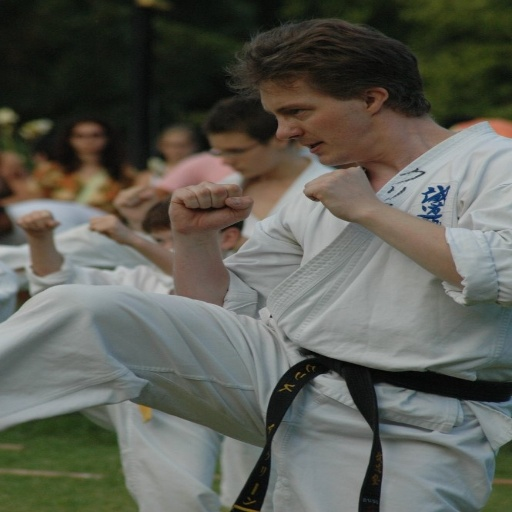hand: (157, 174, 266, 235), (304, 165, 381, 222), (110, 183, 161, 221), (84, 212, 136, 242), (13, 208, 58, 238)
